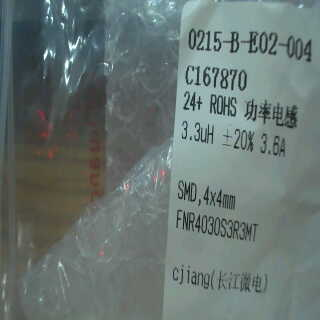3.3uH: (177, 119, 215, 146)
